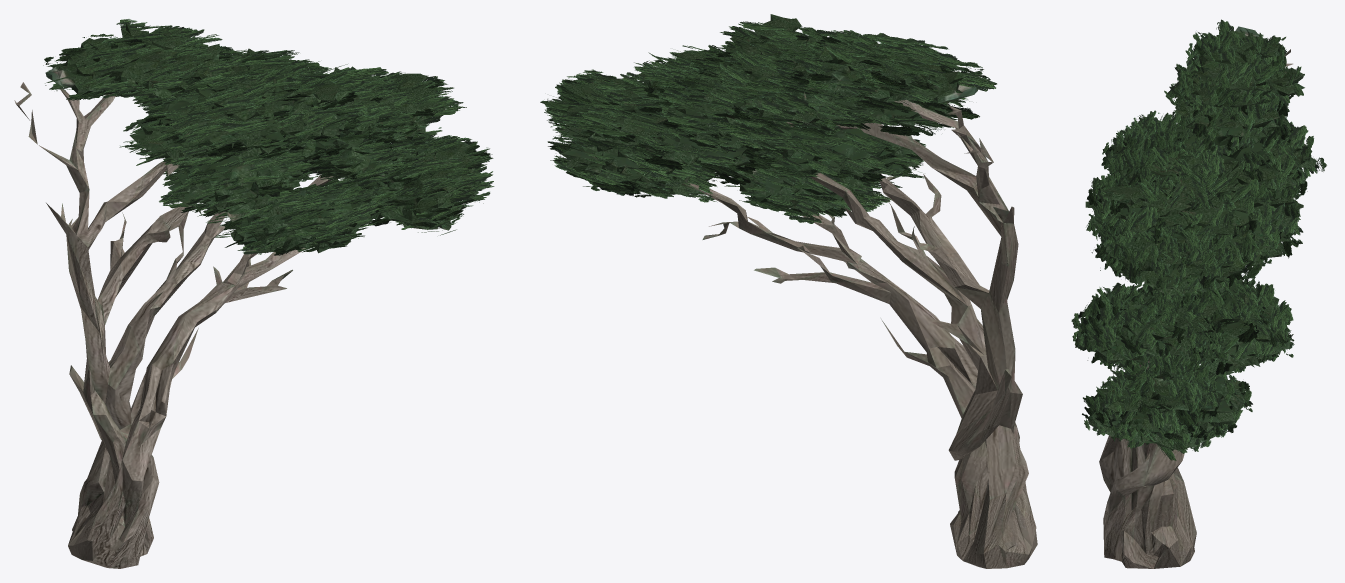
Rendered from tree-cypress-r13.glb.
The picture shows the model from 3 angles, left to right: view 1: azimuth 30°, elevation 25°; view 2: azimuth 150°, elevation 25°; view 3: azimuth 270°, elevation 25°; orthographic projection. The views are drawn at different scales.
Visible parts, largest first — view 1: Mesh_0, foliage-cards; view 2: Mesh_0, foliage-cards; view 3: foliage-cards, Mesh_0.
Boxes of the visible parts, box(x1,y1,x2,y2) form: Mesh_0: box(14, 22, 480, 568); foliage-cards: box(43, 19, 494, 255); Mesh_0: box(549, 14, 1037, 568); foliage-cards: box(540, 21, 996, 223); foliage-cards: box(1071, 19, 1326, 460); Mesh_0: box(1075, 26, 1316, 568).
Size of the model in its own units: 1.86 by 1.91 by 0.8556.
Materials: 2 (2 with a texture image).
